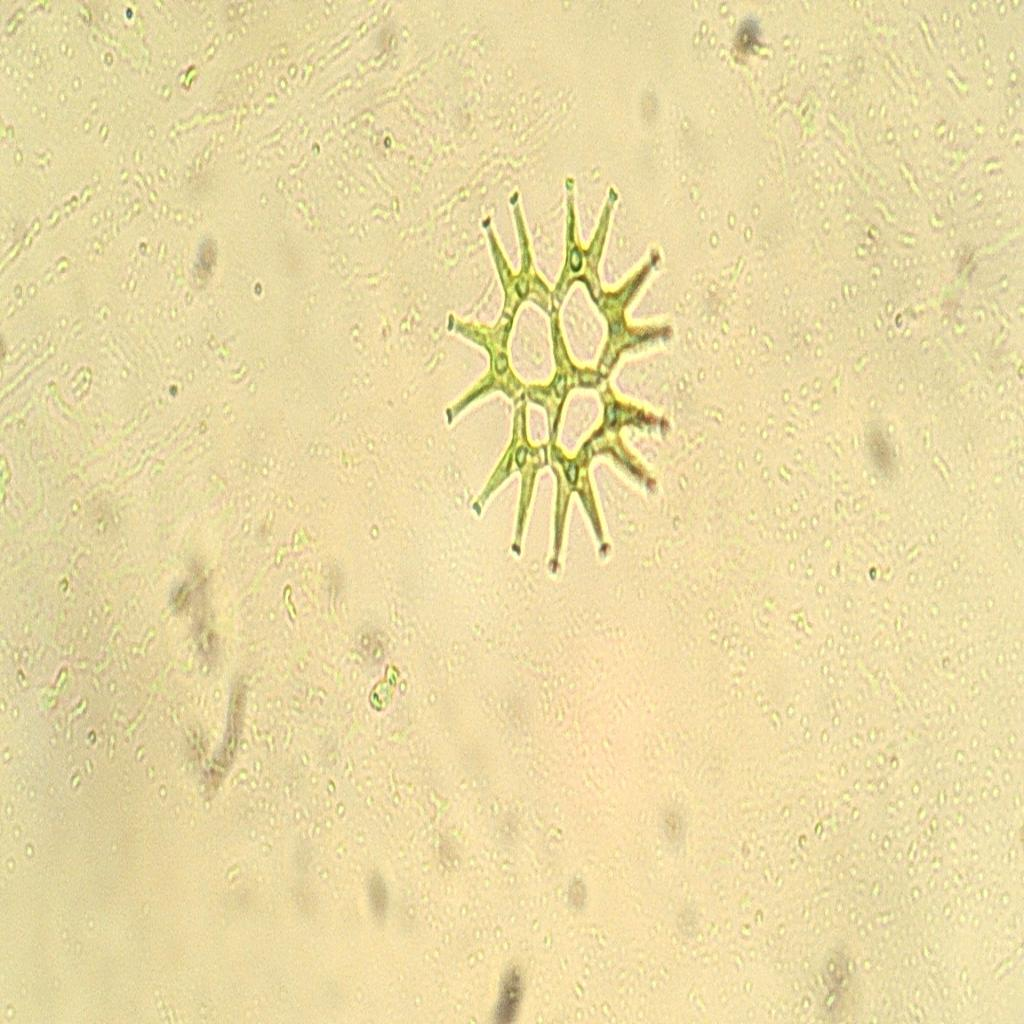Pediastrum_75T: (442, 156, 686, 592)
